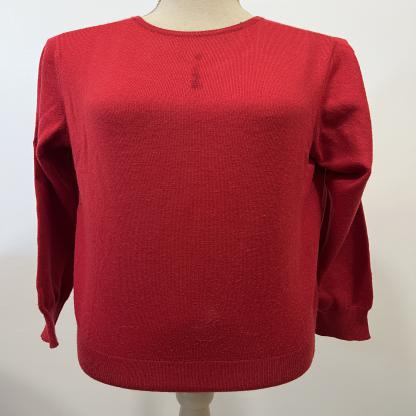stain: (186, 63, 209, 93), (190, 52, 208, 63)
